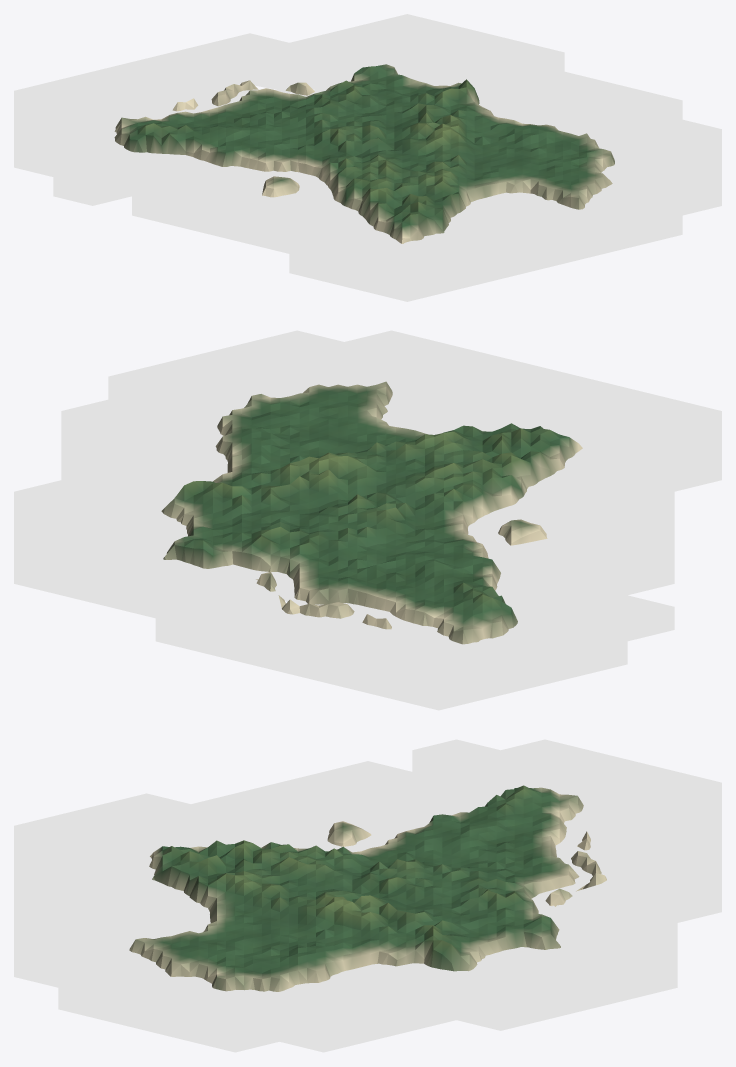
Rendered from landmark-boipeba-balanced.v1.glb.
The picture shows the model from 3 angles, top to bottom: view 1: azimuth 30°, elevation 25°; view 2: azimuth 150°, elevation 25°; view 3: azimuth 270°, elevation 25°; orthographic projection. The views are drawn at different scales.
Visible parts, largest first — view 1: surf, island; view 2: surf, island; view 3: surf, island.
Boxes of the visible parts, left/top/right/bottom form: surf: left=14, top=14, right=721, bottom=301; island: left=114, top=64, right=614, bottom=243; surf: left=14, top=330, right=721, bottom=710; island: left=161, top=381, right=582, bottom=644; surf: left=14, top=739, right=721, bottom=1052; island: left=129, top=785, right=606, bottom=991.
Size of the model in its own units: 40.6 by 4.78 by 38.8.
